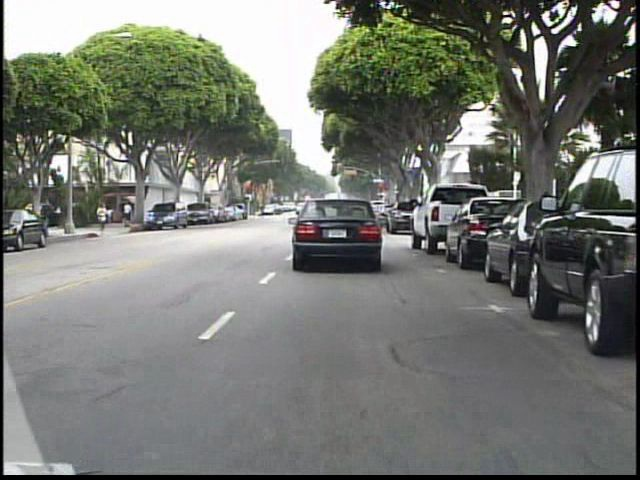person: (96, 199, 113, 238), (122, 198, 136, 232), (255, 200, 271, 224)
